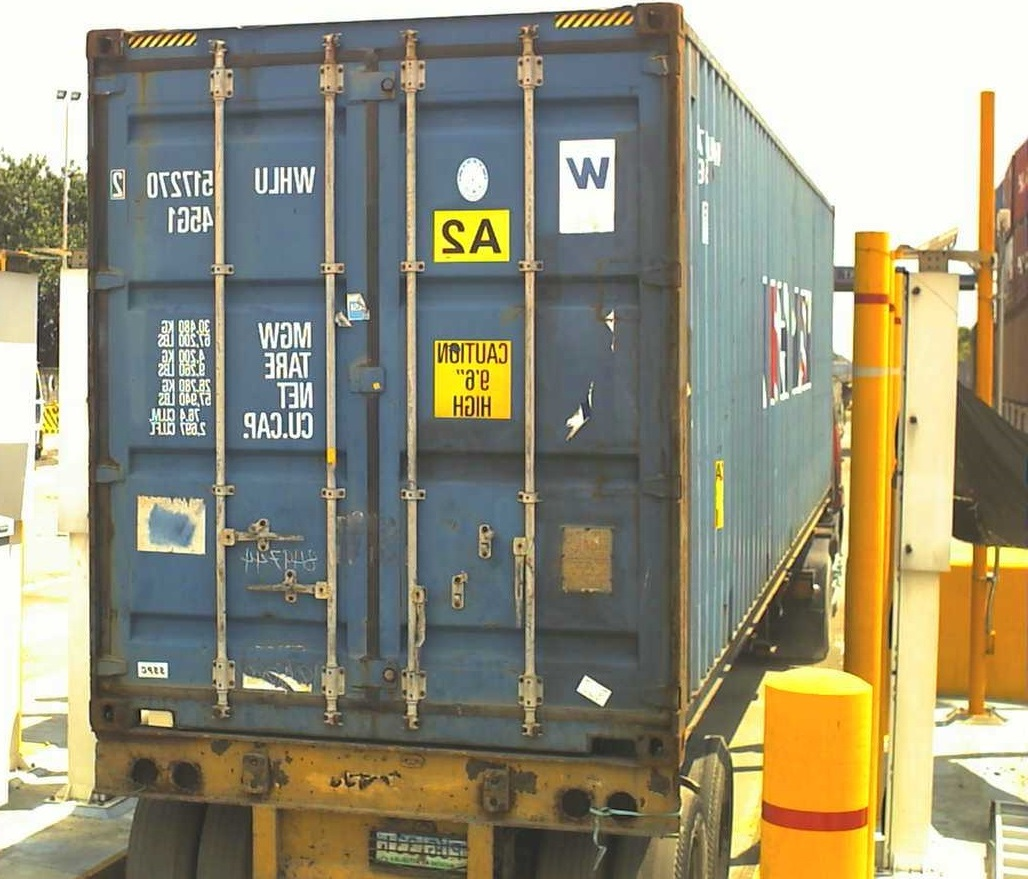container_door: (85, 9, 681, 764)
